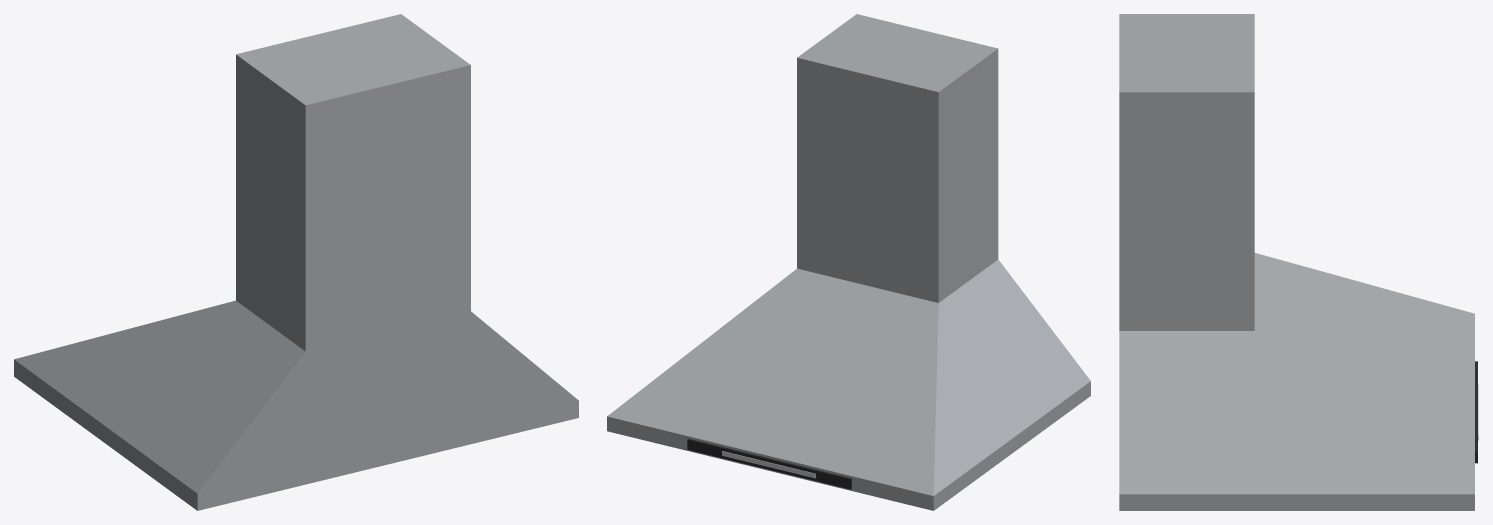
Rendered from FN_Appliance_Extractor.obj.
3 views of the same model, side by side, from view 1: azimuth 30°, elevation 25°; view 2: azimuth 150°, elevation 25°; view 3: azimuth 270°, elevation 25° (orthographic). The views are drawn at different scales.
Visible parts, largest first — view 1: FN_Appliance_Extractor; view 2: FN_Appliance_Extractor; view 3: FN_Appliance_Extractor.
Part boxes in pixels (bbox=[...]): FN_Appliance_Extractor: bbox=[14, 14, 578, 510]; FN_Appliance_Extractor: bbox=[607, 14, 1090, 510]; FN_Appliance_Extractor: bbox=[1119, 14, 1478, 510].
Bounding box in the file's own units: 0.6 × 0.57 × 0.505.
2 materials, 1 textured.
